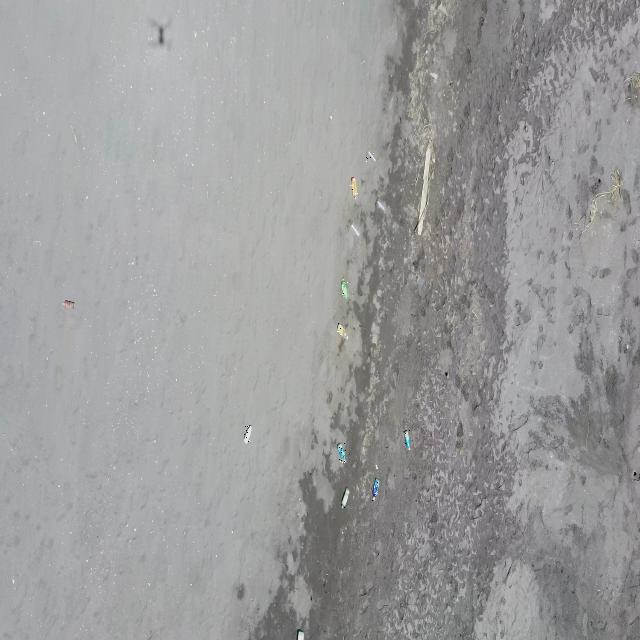plastic-bottle: (350, 176, 358, 200), (337, 443, 346, 464), (341, 488, 350, 509), (337, 323, 348, 340), (372, 478, 380, 501), (341, 277, 348, 299), (244, 425, 252, 443), (404, 430, 410, 450)
takeaway-cup: (375, 197, 386, 212), (350, 221, 360, 237), (366, 148, 376, 163)
